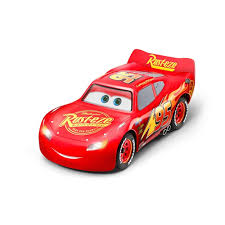mcqueen: (36, 48, 197, 175)
